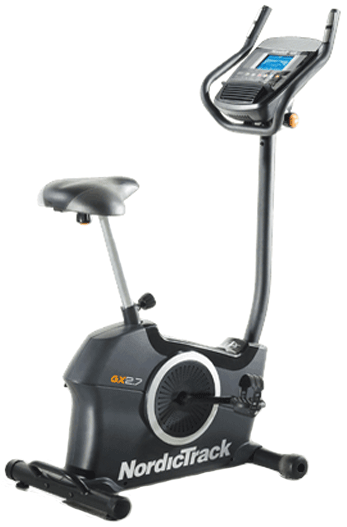gym_bike: (14, 1, 338, 515)
